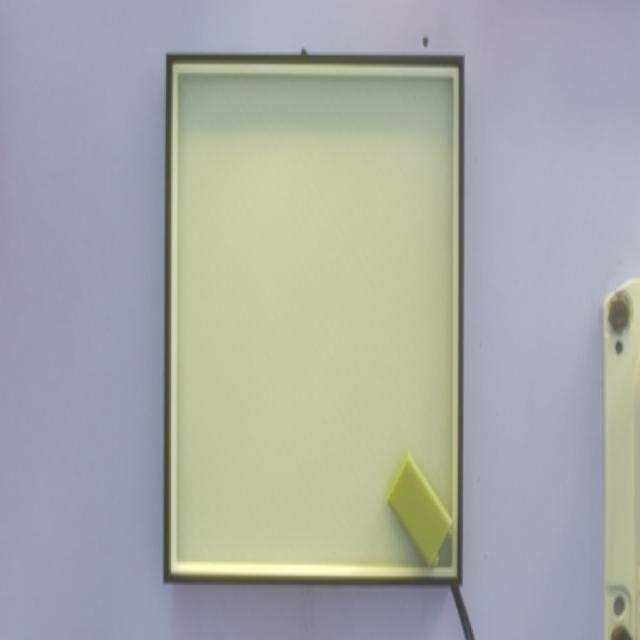bateria: (387, 452, 455, 570)
mesa: (163, 53, 465, 586)
